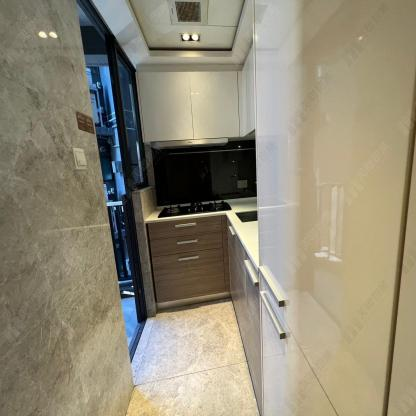Cupboard: (135, 0, 415, 416), (145, 213, 261, 416)
Exhaust Hood: (159, 137, 228, 152)
Sink: (234, 209, 257, 222)
Stove: (156, 197, 232, 219)
